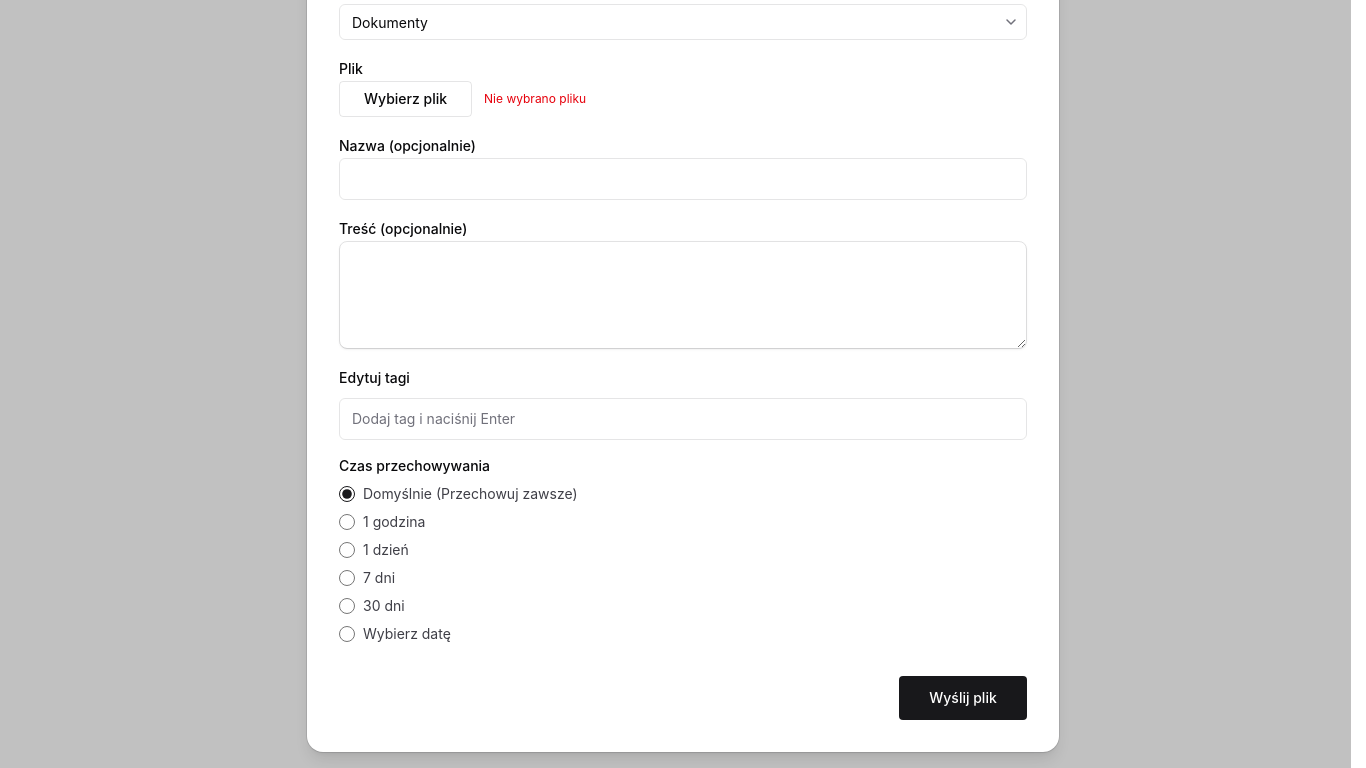
Test: AddItemModal › shows a validation error and does not submit when no file is chosen
(page scrolled)
Expected: the dropdown labelled "Kategoria" shows "Dokumenty", [339,4,1027,40]
Click the button "Wyślij plik" at coordinates (963, 698), box [899,676,1027,720]
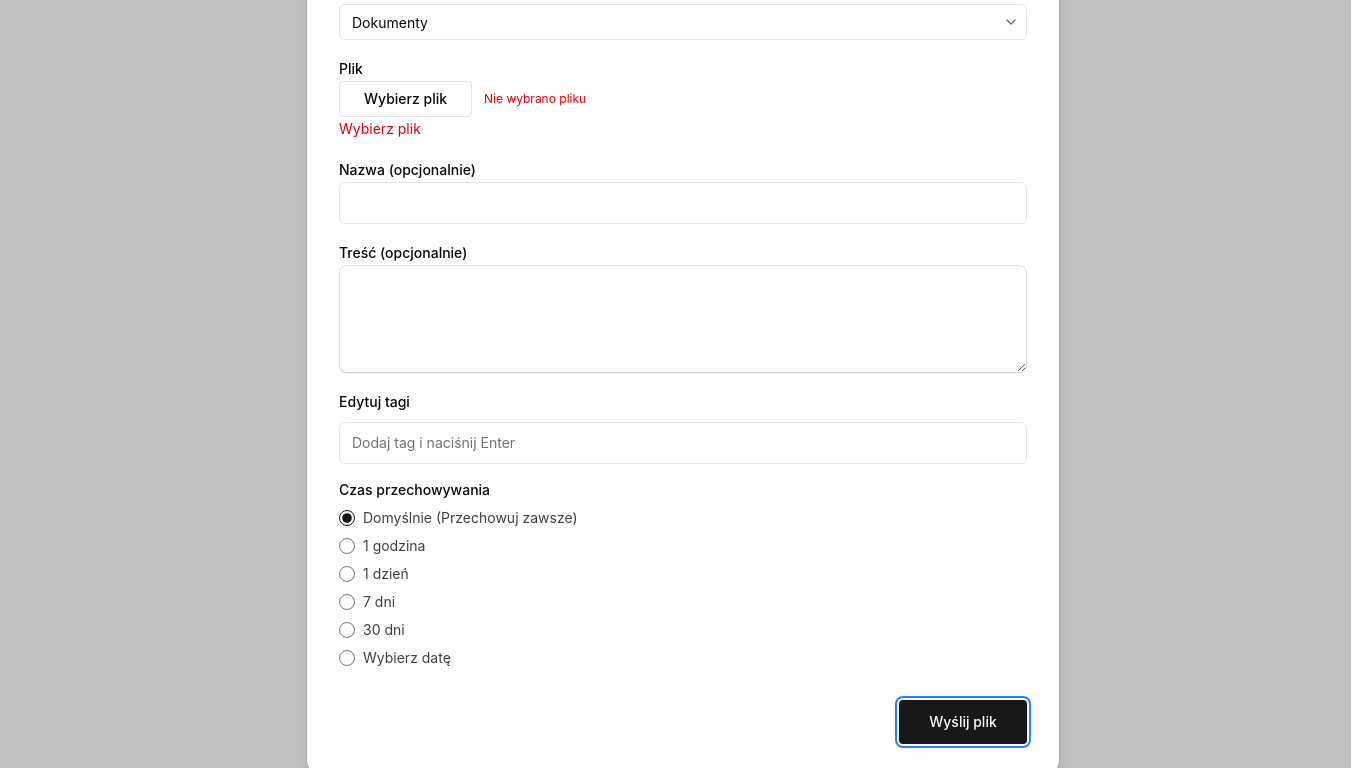
Expected: the text "Wybierz plik" is shown, [339,120,421,137]
